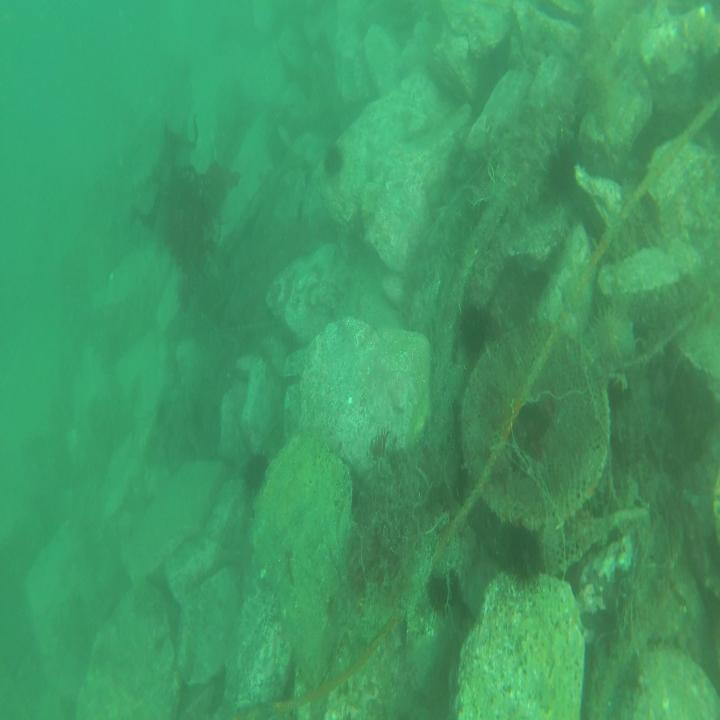echinus: (503, 512, 538, 589), (429, 556, 463, 613), (459, 298, 489, 358), (242, 447, 272, 495), (322, 138, 344, 181)
